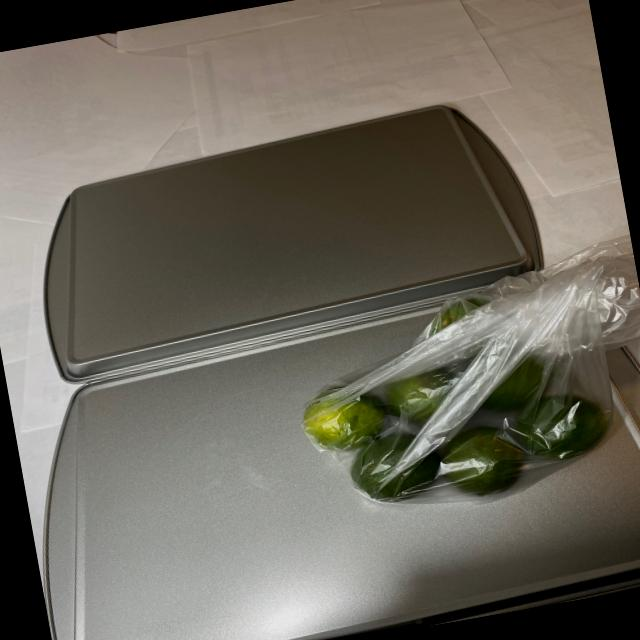lemon: (284, 279, 623, 512)
